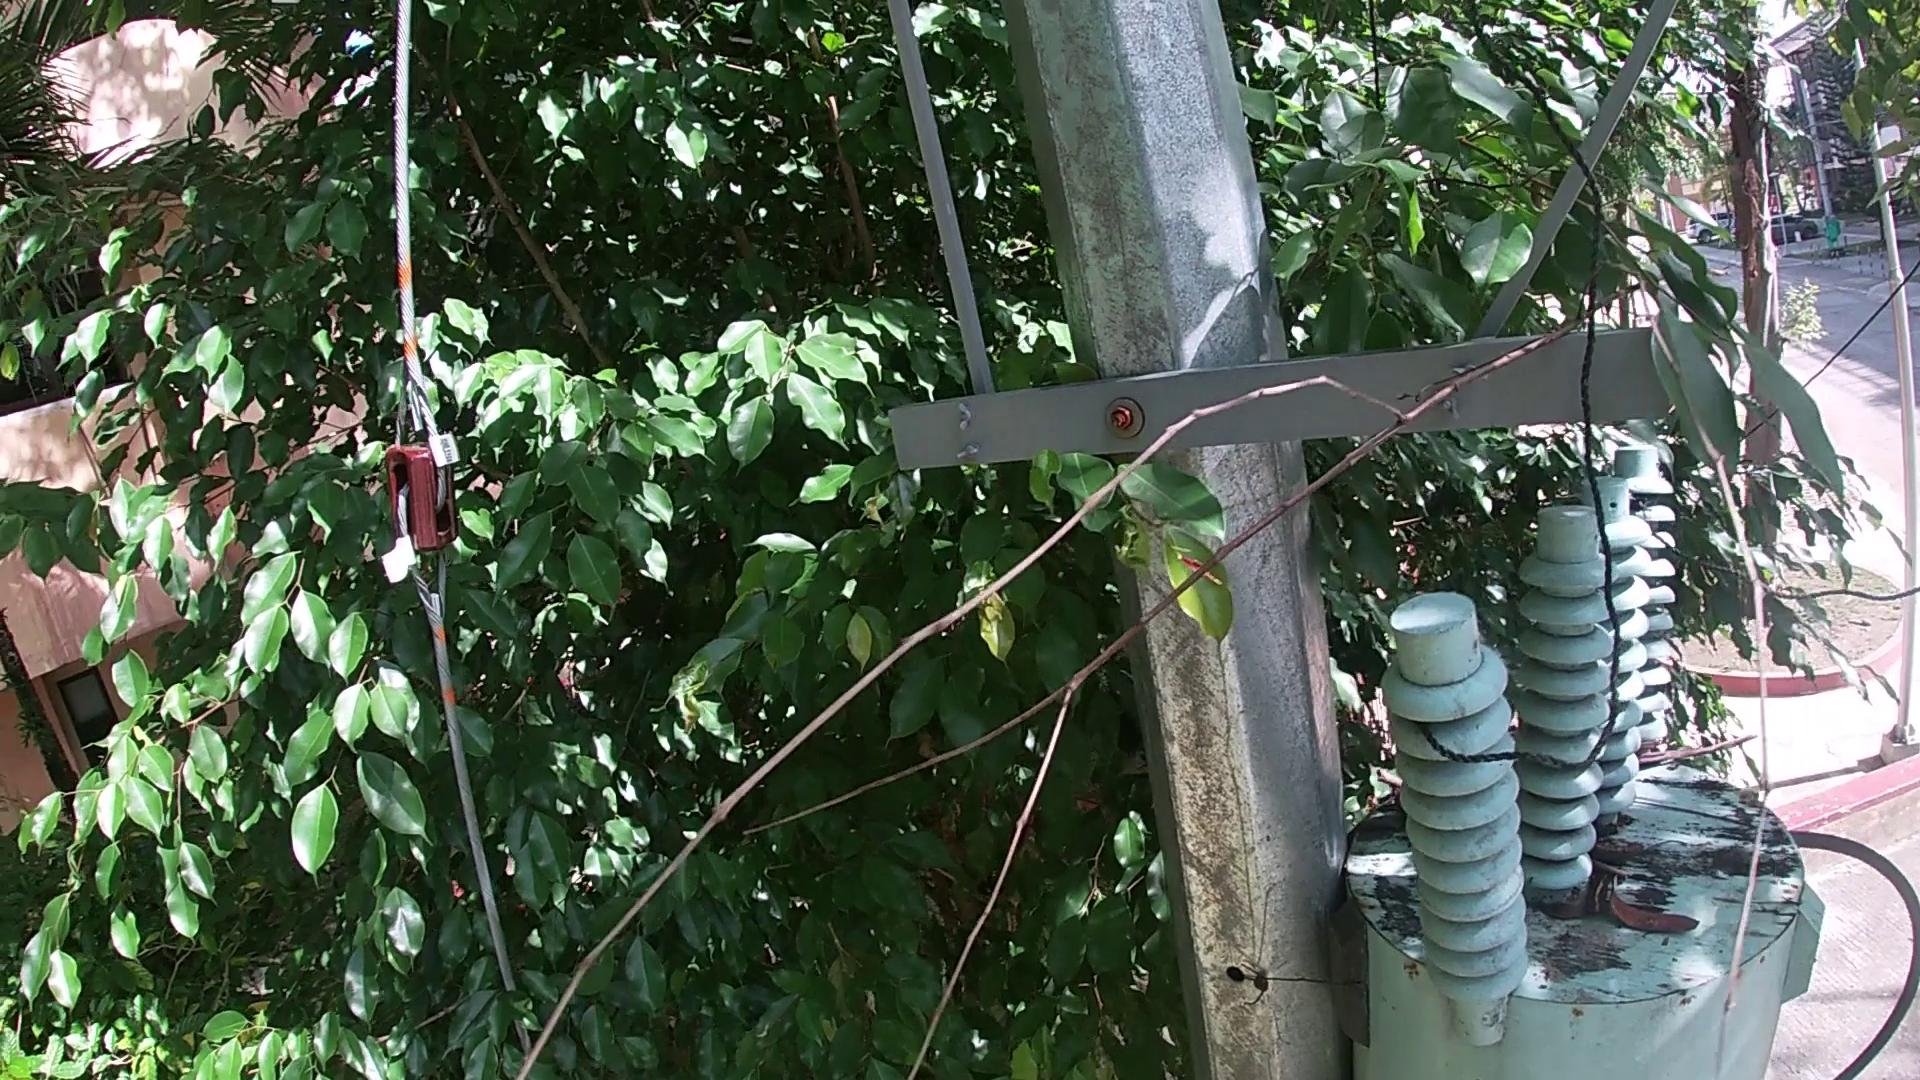leaf: (1561, 870, 1611, 932)
mahogany fruit: (1607, 884, 1712, 934)
tree branch: (473, 251, 1775, 1073), (1630, 725, 1762, 764), (1626, 800, 1755, 832), (1371, 761, 1403, 825)
